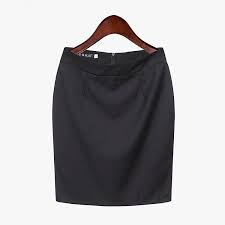F_tailored skirt: (36, 39, 186, 214)
